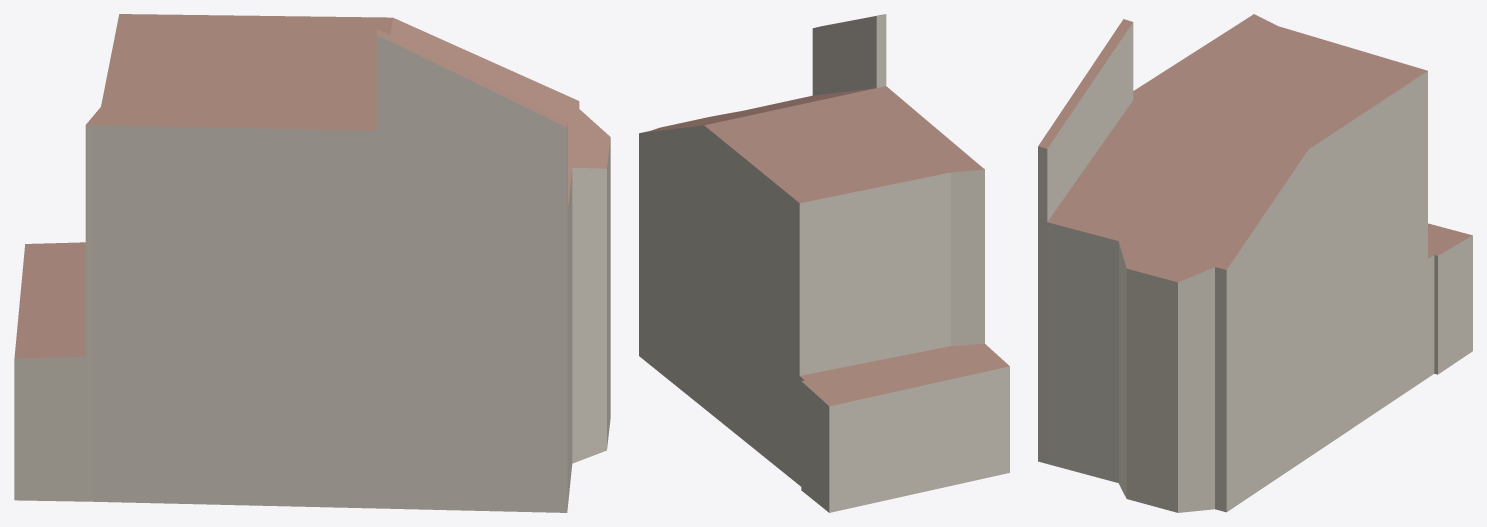
3 renders of one model, left to right at view 1: azimuth 30°, elevation 25°; view 2: azimuth 150°, elevation 25°; view 3: azimuth 270°, elevation 25°, orthographic. The views are drawn at different scales.
Bounding box in the file's own units: 13.09 × 11.16 × 11.36.
